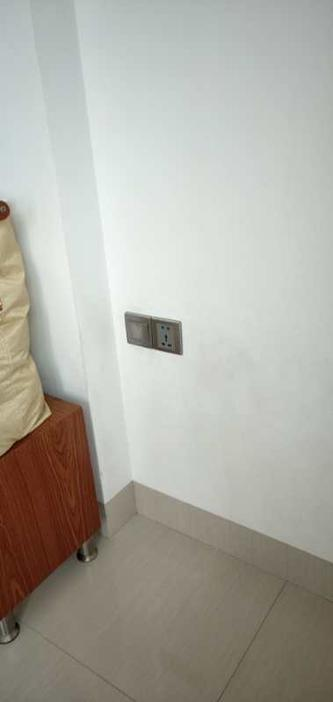switch: (126, 317, 148, 337)
